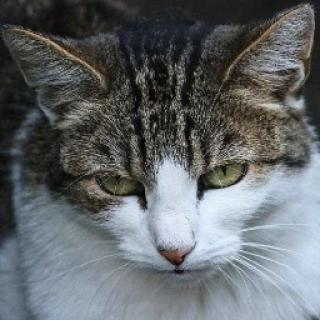cat: (5, 16, 320, 294)
nose: (146, 201, 200, 269)
